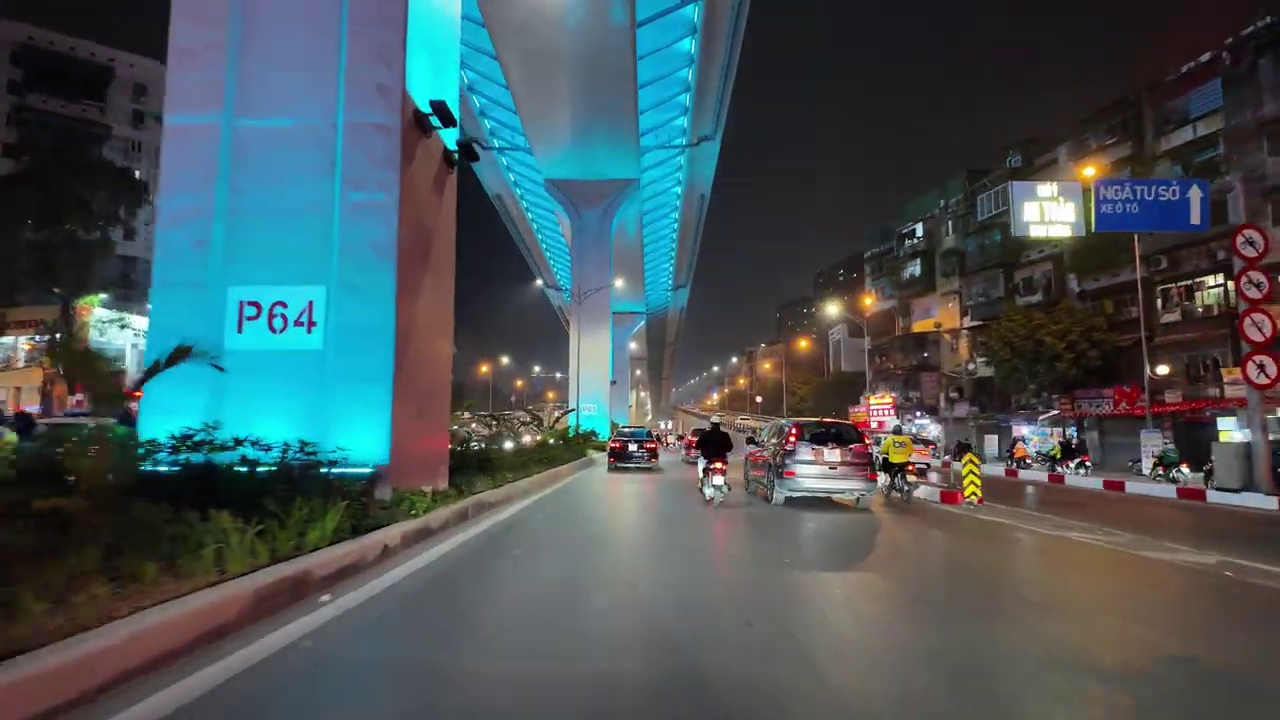acesa: (826, 290, 875, 325), (1075, 158, 1103, 184), (856, 289, 880, 315), (610, 272, 633, 295), (792, 334, 815, 357)
